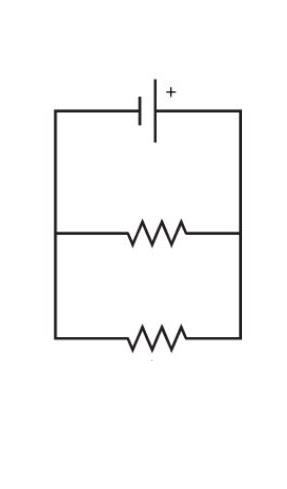resistor: (98, 201, 207, 261), (99, 312, 203, 367)
